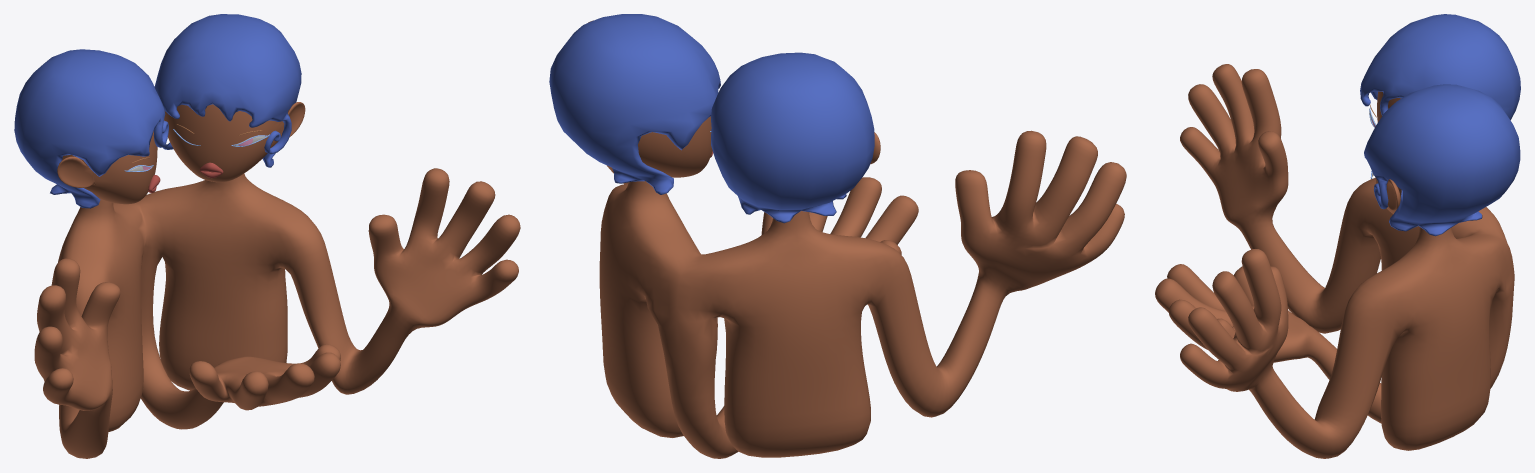
File: 3avatarsConnectedHands.glb
3 renders of one model, left to right at view 1: azimuth 30°, elevation 25°; view 2: azimuth 150°, elevation 25°; view 3: azimuth 270°, elevation 25°, orthographic. The views are drawn at different scales.
Parts seen in each view (by area): view 1: l_body, l_hair, r_hair, r_head, l_head; view 2: l_body, l_hair, r_hair, r_head; view 3: l_body, r_hair, l_hair, r_head.
Part boxes in pixels (left/top/right/bottom): l_body: left=34, top=168, right=520, bottom=458; l_hair: left=14, top=49, right=168, bottom=208; r_hair: left=154, top=14, right=301, bottom=167; r_head: left=164, top=102, right=305, bottom=182; l_head: left=57, top=131, right=157, bottom=204; l_body: left=588, top=20, right=1126, bottom=458; l_hair: left=711, top=52, right=874, bottom=223; r_hair: left=549, top=14, right=720, bottom=194; r_head: left=638, top=116, right=712, bottom=177; l_body: left=1155, top=64, right=1514, bottom=458; r_hair: left=1364, top=84, right=1520, bottom=236; l_hair: left=1360, top=14, right=1520, bottom=120; r_head: left=1375, top=178, right=1401, bottom=214.
Size of the model in its own units: 4.64 by 3.44 by 3.07.
